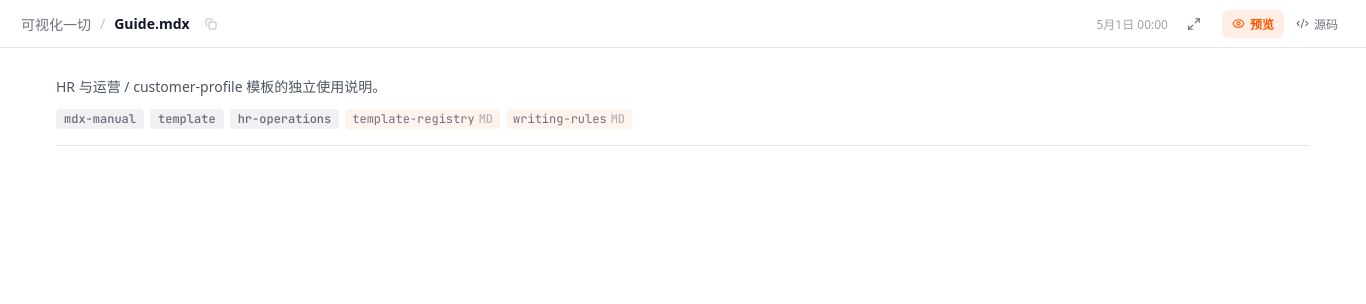
Test case: DetailView topic file rendering › renders mdx topic files with the same preview/code file controls
Expected: the button "Guide.mdx" is shown, [111,12,193,35]
Expected: the element with test id "file-preview-metadata" does not show "summary"
Click the button "源码".
click(1317, 24)  # box [1286,10,1348,38]
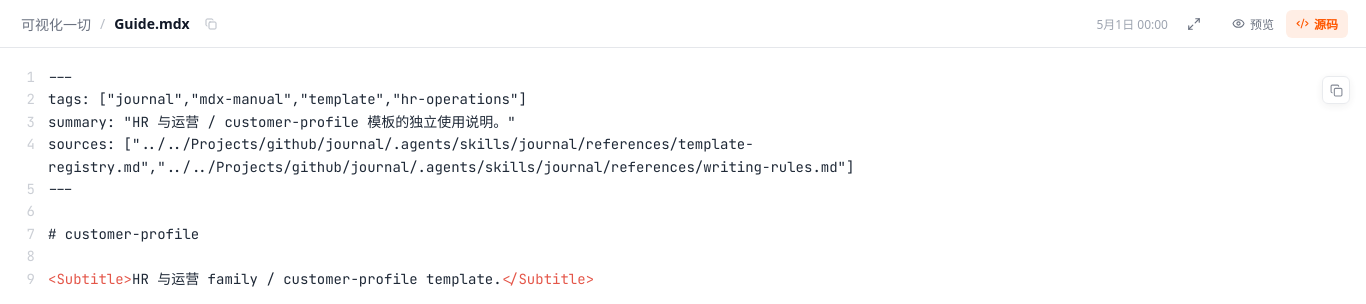
Now the element with test id "source-view" shows "summary: \"HR 与运营 / customer-profile 模板的独立使用说明。\"", box [48,113,516,131]
